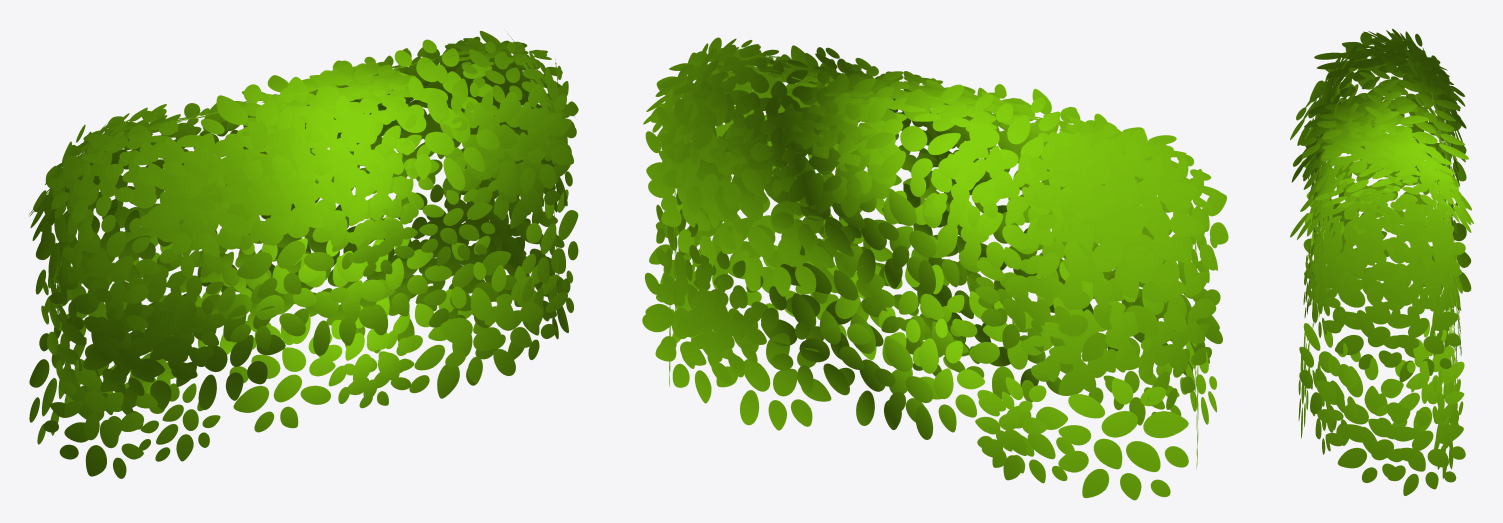
The model's file is Bush_Large.glb.
3 renders of one model, left to right at view 1: azimuth 30°, elevation 25°; view 2: azimuth 150°, elevation 25°; view 3: azimuth 270°, elevation 25°, orthographic. The views are drawn at different scales.
Parts seen in each view (by area): view 1: Bush_Large; view 2: Bush_Large; view 3: Bush_Large.
Part boxes in pixels (x1,y1,x2,y2): Bush_Large: (29,31,578,478); Bush_Large: (642,37,1228,500); Bush_Large: (1290,28,1473,495).
Bounding box in the file's own units: 1.9 × 1.22 × 0.7239.
Materials: 1 (1 with a texture image).
